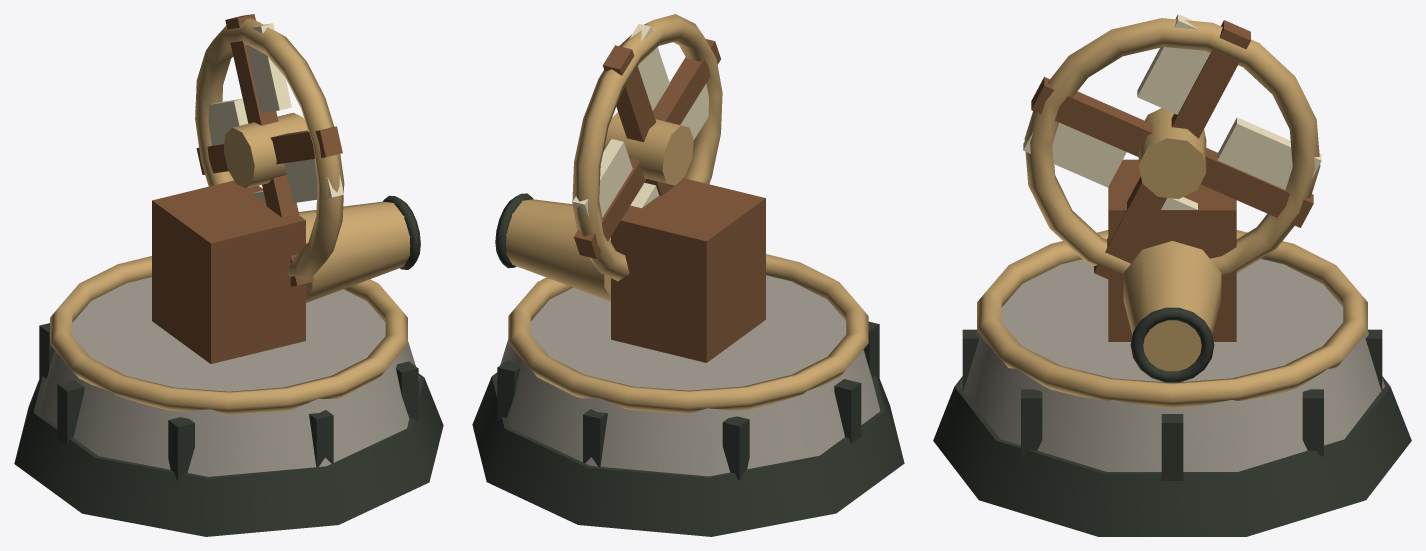
File: tower_wind_windGuide.glb
3 views of the same model, side by side, from view 1: azimuth 30°, elevation 25°; view 2: azimuth 150°, elevation 25°; view 3: azimuth 270°, elevation 25° (orthographic). The views are drawn at different scales.
Parts seen in each view (by area): view 1: stone_1, foot_0, mill_11, rim_2, guide_ring_12, air_nozzle_22, hub_13, sail_17, spar_18, spar_16, mortar_6, sail_19 (+8 smaller); view 2: stone_1, foot_0, mill_11, rim_2, guide_ring_12, air_nozzle_22, hub_13, spar_16, spar_18, spar_14, sail_15, mortar_8 (+7 smaller); view 3: stone_1, foot_0, guide_ring_12, rim_2, air_nozzle_22, mill_11, hub_13, spar_18, sail_15, sail_17, spar_16, spar_14 (+8 smaller).
Part boxes in pixels (<box>): stone_1: <box>38,277,419,476</box>; foot_0: <box>14,373,443,536</box>; mill_11: <box>152,180,305,363</box>; rim_2: <box>50,256,407,414</box>; guide_ring_12: <box>195,18,344,280</box>; air_nozzle_22: <box>298,201,410,302</box>; hub_13: <box>223,112,307,188</box>; sail_17: <box>246,23,291,112</box>; spar_18: <box>270,126,342,164</box>; spar_16: <box>225,14,278,125</box>; mortar_6: <box>168,417,194,480</box>; sail_19: <box>284,159,343,202</box>; stone_1: <box>496,275,880,476</box>; foot_0: <box>472,372,904,536</box>; mill_11: <box>611,178,765,362</box>; rim_2: <box>508,254,868,413</box>; guide_ring_12: <box>572,14,722,281</box>; air_nozzle_22: <box>506,199,610,301</box>; hub_13: <box>603,112,693,185</box>; spar_16: <box>602,45,656,142</box>; spar_18: <box>653,39,720,124</box>; spar_14: <box>574,158,646,258</box>; sail_15: <box>572,139,632,218</box>; mortar_8: <box>722,416,749,479</box>; stone_1: <box>960,259,1384,471</box>; foot_0: <box>933,376,1411,536</box>; guide_ring_12: <box>1024,18,1320,275</box>; rim_2: <box>977,230,1367,408</box>; air_nozzle_22: <box>1123,241,1221,371</box>; mill_11: <box>1108,159,1236,341</box>; hub_13: <box>1138,108,1206,199</box>; spar_18: <box>1031,77,1152,156</box>; sail_15: <box>1217,117,1321,189</box>; sail_17: <box>1137,14,1210,114</box>; spar_16: <box>1171,20,1250,138</box>; spar_14: <box>1200,147,1313,227</box>.
Size of the model in its own units: 0.5326 by 0.5745 by 0.56.
